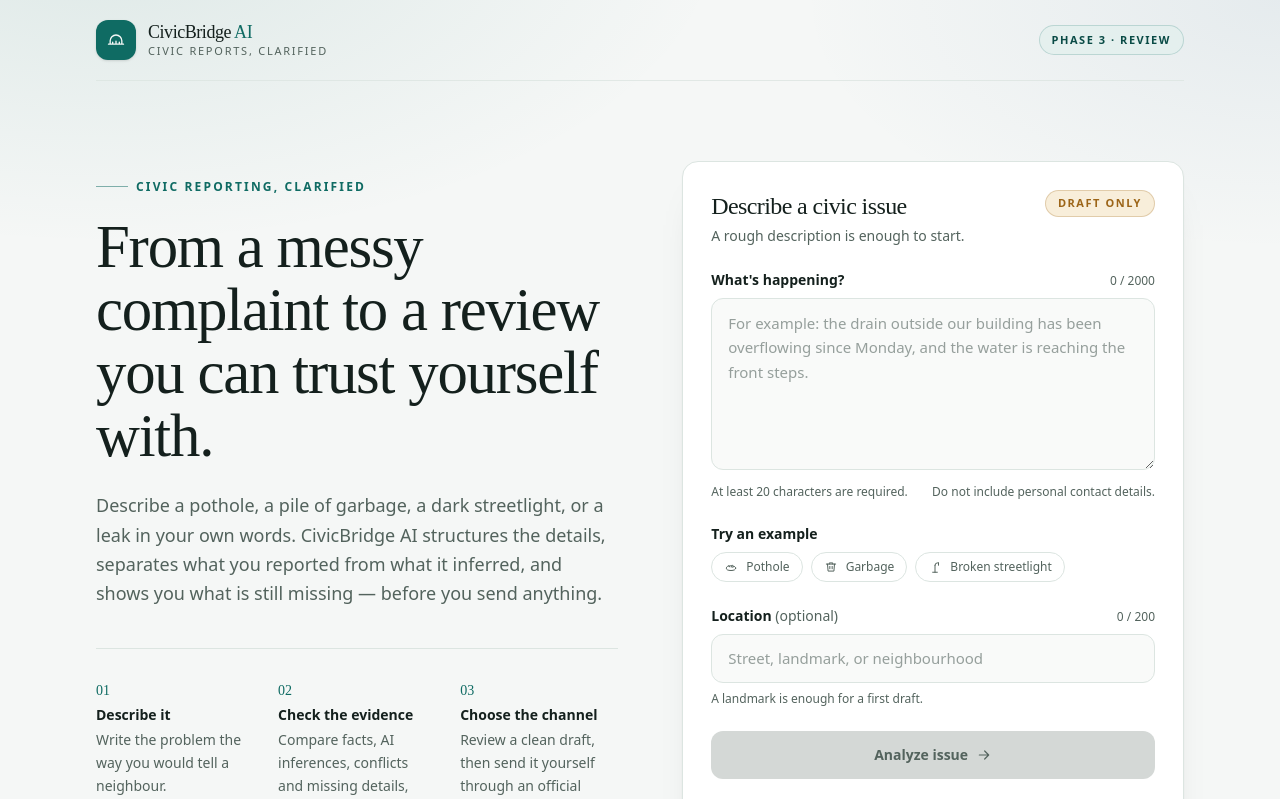
it: CivicBridge analysis flow › renders conflicting values and review flags
What coordinates should you click on to do the following:
click the button "Pothole"
I would click on:
 (757, 567)
Its box is [711,552,803,582].
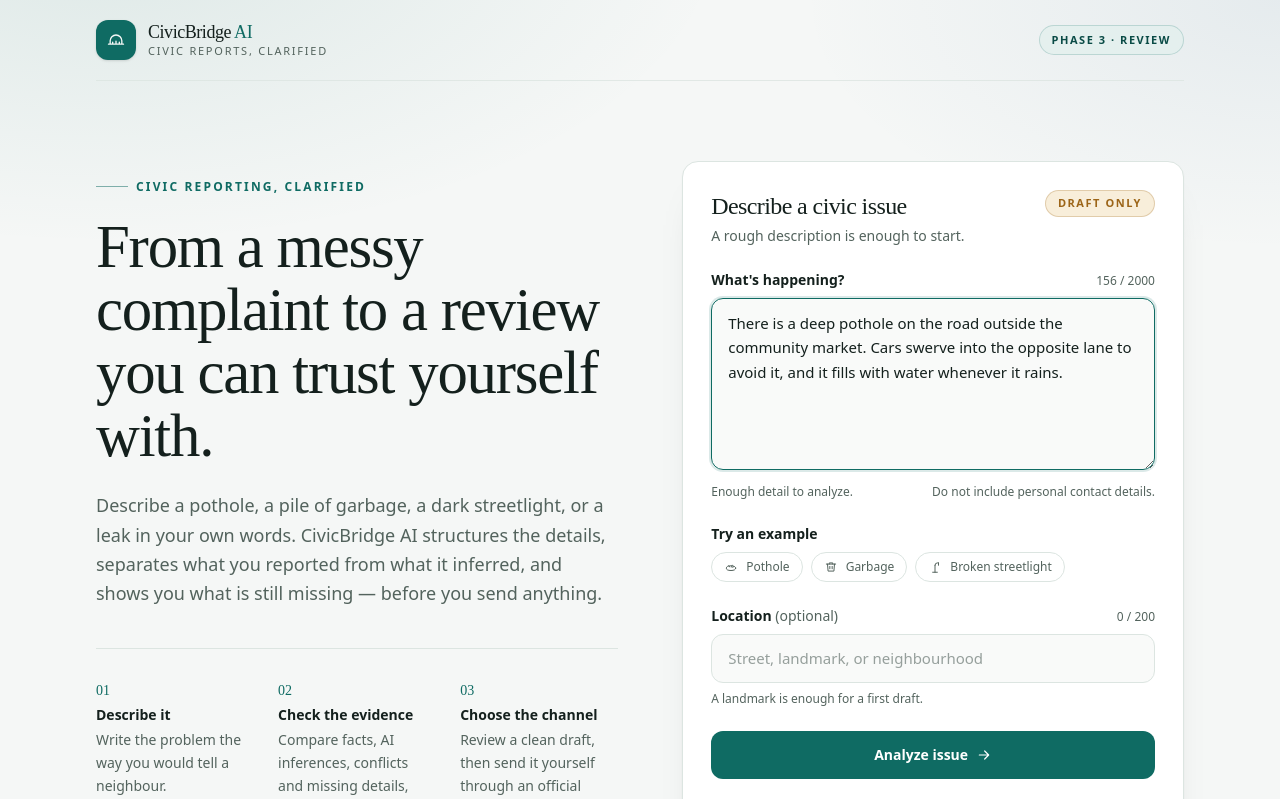
What coordinates should you click on to do the following:
click the button "Analyze issue"
I would click on:
 (933, 755)
Its box is [711,731,1155,779].
(page scrolled)
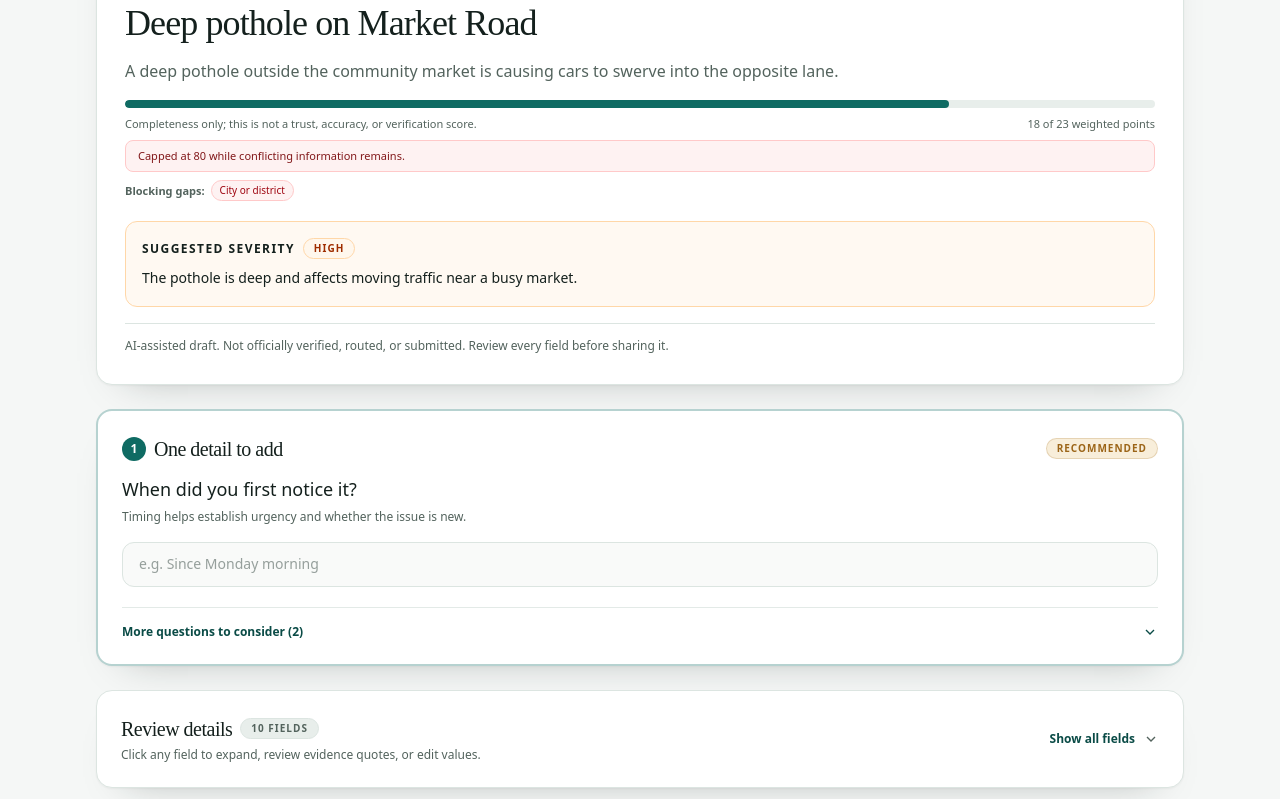
Expected: the text "Capped at 80 while conflicting information remains." is shown, [125,140,1155,172]
